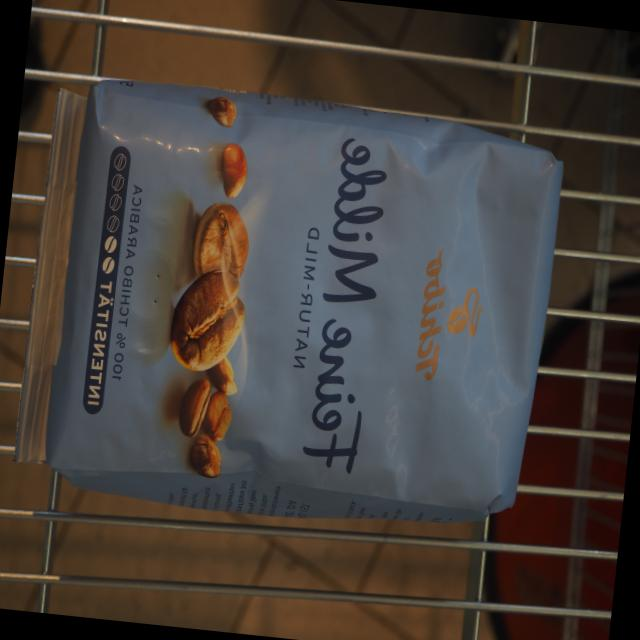FM Bohne: (4, 64, 574, 552)
